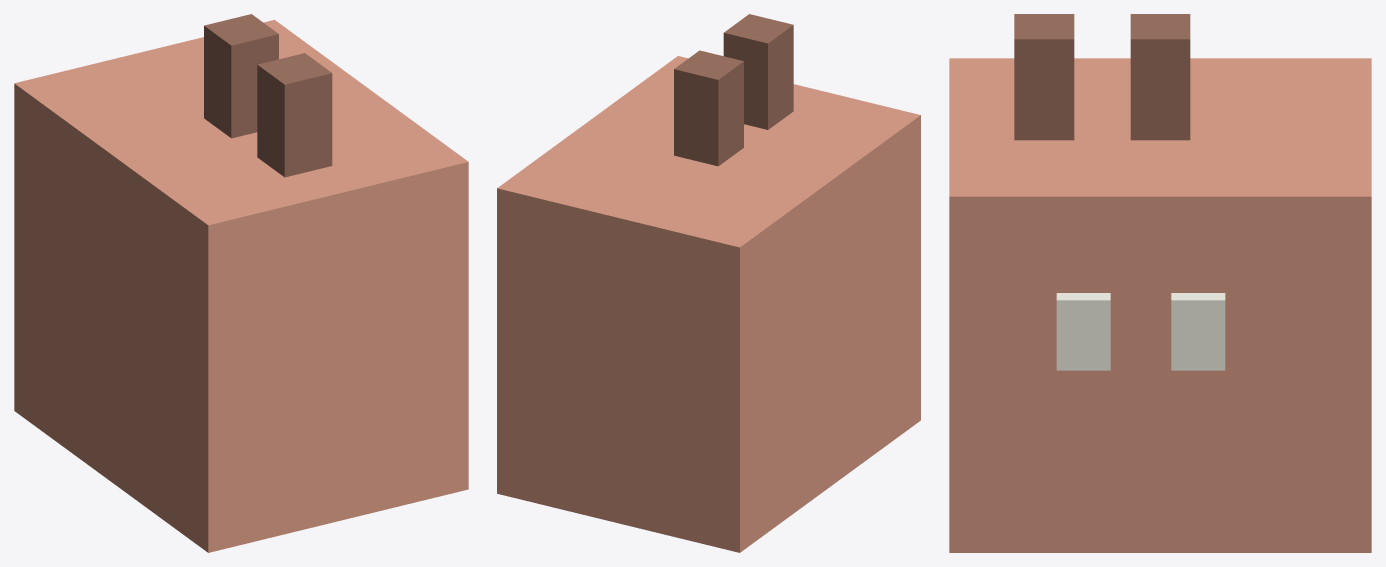
The model's file is head.dae.
The picture shows the model from 3 angles, left to right: view 1: azimuth 30°, elevation 25°; view 2: azimuth 150°, elevation 25°; view 3: azimuth 270°, elevation 25°; orthographic projection. The views are drawn at different scales.
Visible parts, largest first — view 1: Cube, Cube.002, Cube.003; view 2: Cube, Cube.003, Cube.002; view 3: Cube, Cube.002, Cube.003, Cube.005, Cube.004.
Part boxes in pixels (bbox=[...]): Cube: bbox=[14, 20, 468, 552]; Cube.002: bbox=[257, 53, 332, 177]; Cube.003: bbox=[204, 14, 278, 138]; Cube: bbox=[497, 56, 920, 552]; Cube.003: bbox=[674, 50, 743, 166]; Cube.002: bbox=[723, 14, 793, 129]; Cube: bbox=[949, 58, 1371, 552]; Cube.002: bbox=[1014, 14, 1074, 140]; Cube.003: bbox=[1130, 14, 1190, 140]; Cube.005: bbox=[1171, 293, 1225, 370]; Cube.004: bbox=[1056, 293, 1110, 370].
Bounding box in the file's own units: 1.22 × 1.49 × 1.78.
